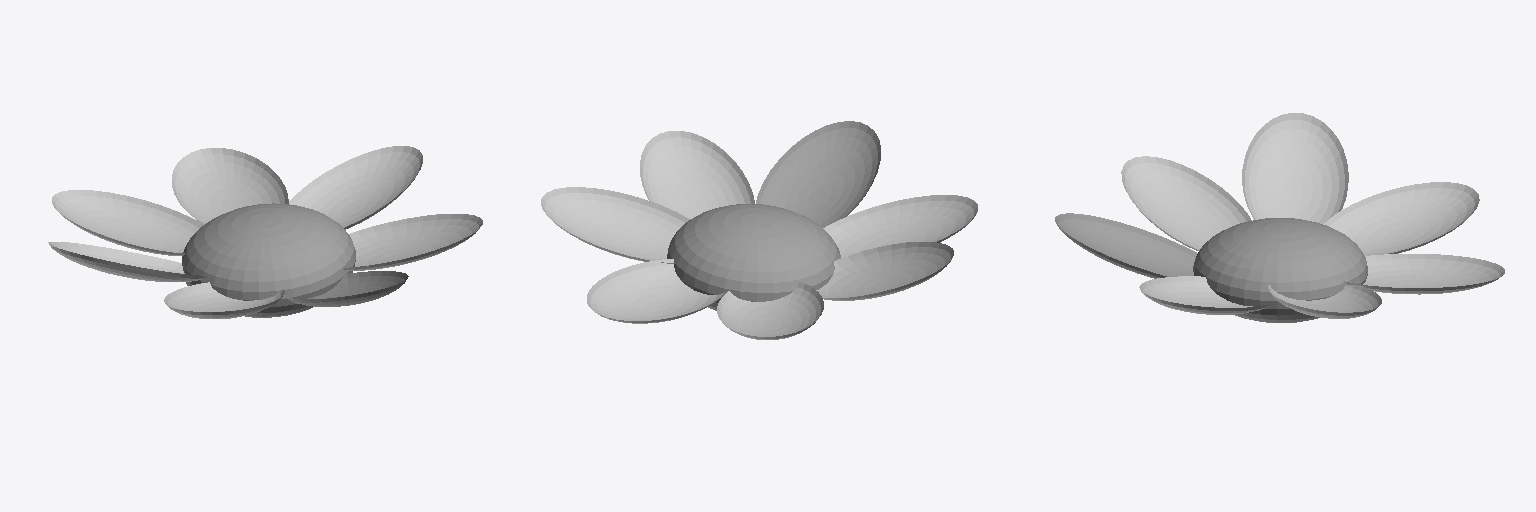
The model's file is flower.obj.
3 renders of one model, left to right at view 1: azimuth 30°, elevation 25°; view 2: azimuth 150°, elevation 25°; view 3: azimuth 270°, elevation 25°, orthographic.
Visible parts, largest first — view 1: Sphere, Sphere.002, Sphere.003, Sphere.001, Sphere.005, Sphere.004, Sphere.008, Sphere.006; view 2: Sphere, Sphere.006, Sphere.002, Sphere.005, Sphere.008, Sphere.001, Sphere.004, Sphere.003; view 3: Sphere, Sphere.004, Sphere.003, Sphere.008, Sphere.006, Sphere.001, Sphere.005, Sphere.002.
Boxes of the visible parts, <box> form: Sphere: <box>182,203,355,317</box>; Sphere.002: <box>289,146,422,229</box>; Sphere.003: <box>52,190,203,255</box>; Sphere.001: <box>172,148,288,224</box>; Sphere.005: <box>343,214,482,270</box>; Sphere.004: <box>48,242,208,281</box>; Sphere.008: <box>164,282,284,318</box>; Sphere.006: <box>283,271,408,306</box>; Sphere: <box>667,204,840,310</box>; Sphere.006: <box>756,121,880,227</box>; Sphere.002: <box>541,187,690,263</box>; Sphere.005: <box>640,131,754,218</box>; Sphere.008: <box>823,195,977,257</box>; Sphere.001: <box>587,259,727,323</box>; Sphere.004: <box>816,242,953,300</box>; Sphere.003: <box>717,282,823,339</box>; Sphere: <box>1193,218,1367,322</box>; Sphere.004: <box>1242,113,1348,223</box>; Sphere.003: <box>1323,182,1479,255</box>; Sphere.008: <box>1121,156,1251,250</box>; Sphere.006: <box>1055,213,1197,278</box>; Sphere.001: <box>1343,254,1504,294</box>; Sphere.005: <box>1139,276,1275,314</box>; Sphere.002: <box>1268,282,1381,318</box>.
Bounding box in the file's own units: 1.61 × 0.3984 × 1.63.